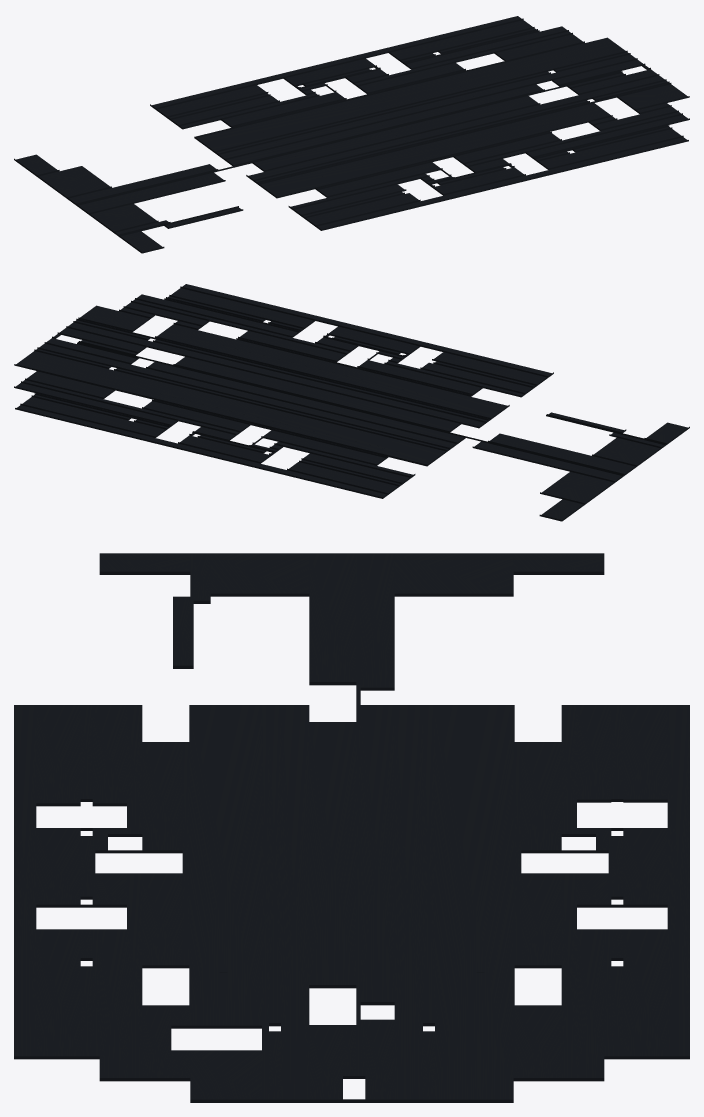
Rendered from tt_struct_f2_slab.glb.
The picture shows the model from 3 angles, top to bottom: view 1: azimuth 30°, elevation 25°; view 2: azimuth 150°, elevation 25°; view 3: azimuth 270°, elevation 25°; orthographic projection. The views are drawn at different scales.
Parts seen in each view (by area): view 1: Slab_F2; view 2: Slab_F2; view 3: Slab_F2.
Boxes of the visible parts, <box> form: Slab_F2: <box>14,16,689,253</box>; Slab_F2: <box>14,284,689,521</box>; Slab_F2: <box>14,553,689,1102</box>.
Size of what is drawn, in the model's own units: 152 by 1.1 by 79.
Materials: 1 (1 with a texture image).
